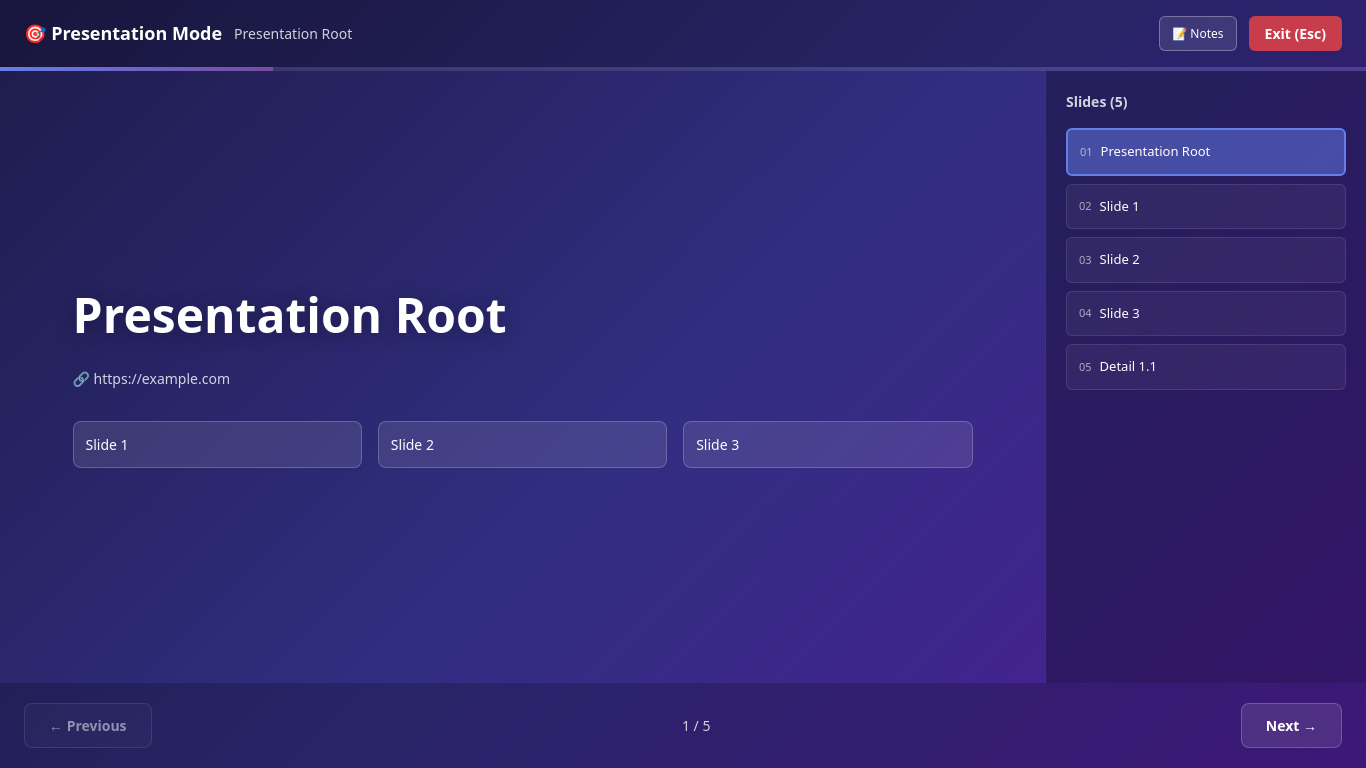
Test: PresentationMode › should navigate to slide when clicking in slide overview
// Click on second slide
Click the list item "02 Slide 1": (1206, 206) [1066,184,1346,229]
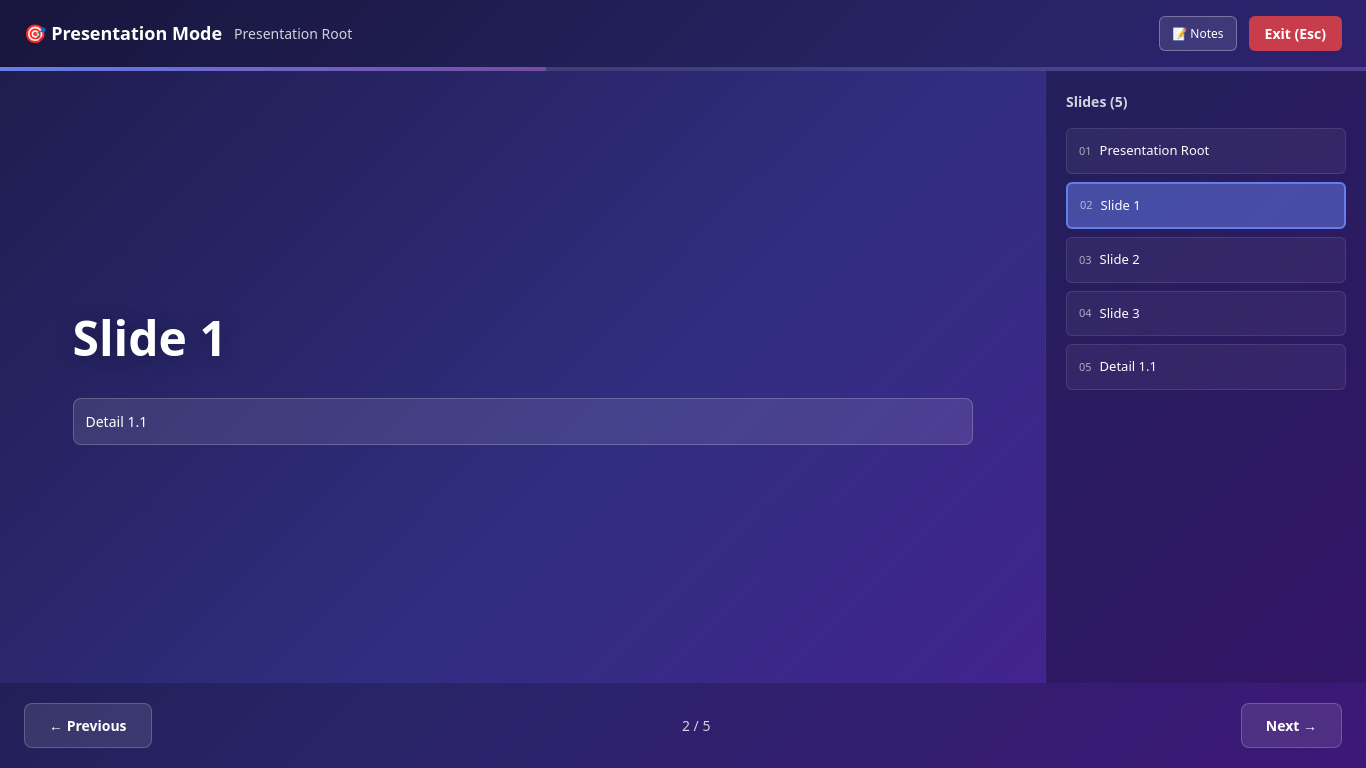
Expected: the message shows "2 /", [682,715,710,736]
